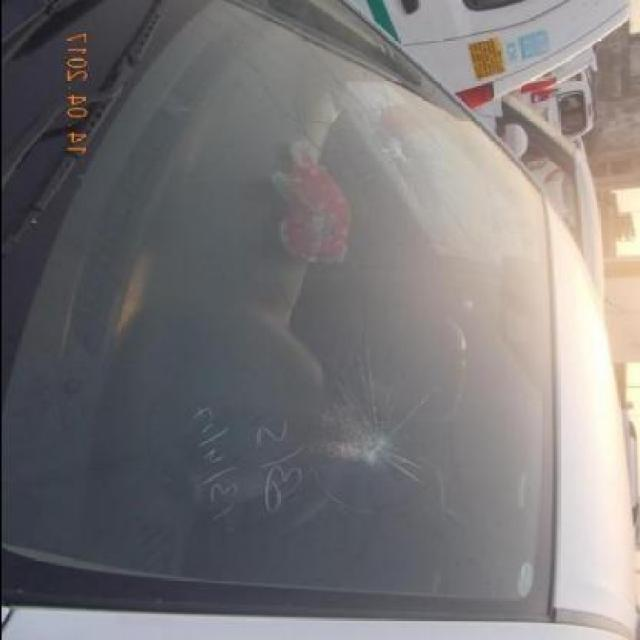damage: (344, 414, 402, 486), (377, 122, 428, 173)
